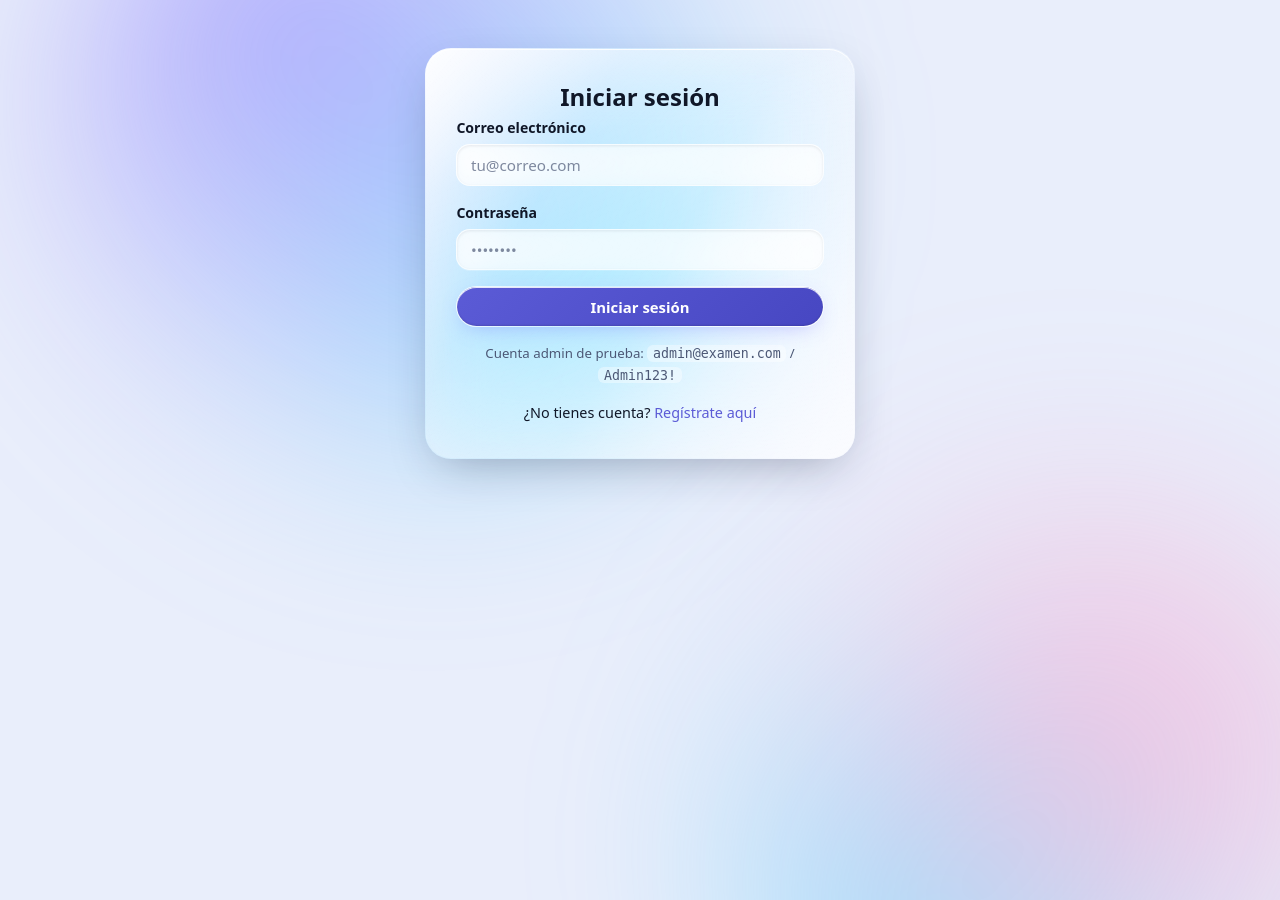
Scenario: LoginForm (integración) › muestra el error visible del servidor cuando las credenciales son inválidas (401)
The image size is (1280, 900).
Type "ana@example.com" into the field labelled "Correo electrónico" at {"x": 640, "y": 165}, box [456, 144, 824, 186]
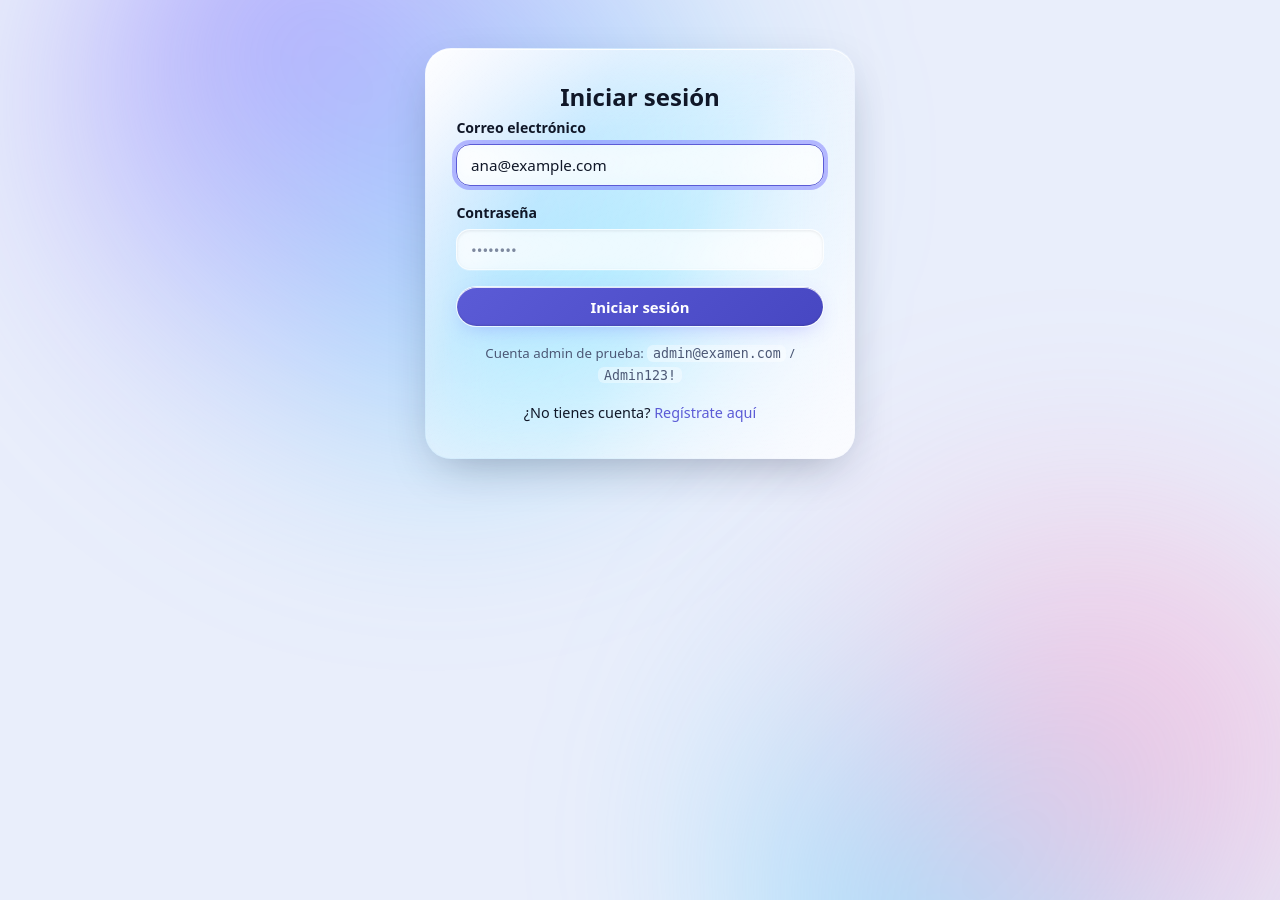
Type "wrong-password" into the password field labelled "Contraseña" at {"x": 640, "y": 250}, box [456, 229, 824, 270]
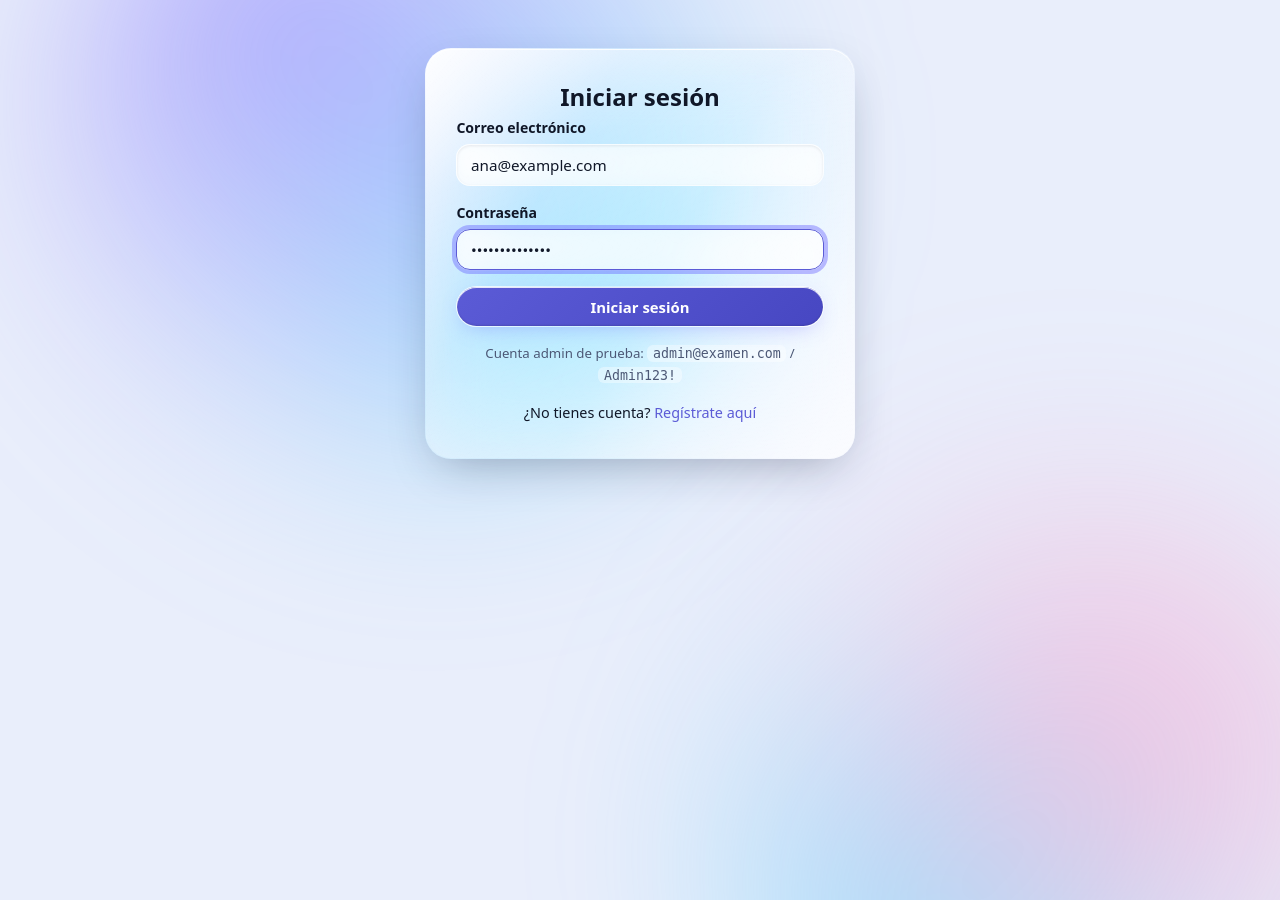
Click the button "Iniciar sesión" at {"x": 640, "y": 307}, box [456, 286, 824, 327]
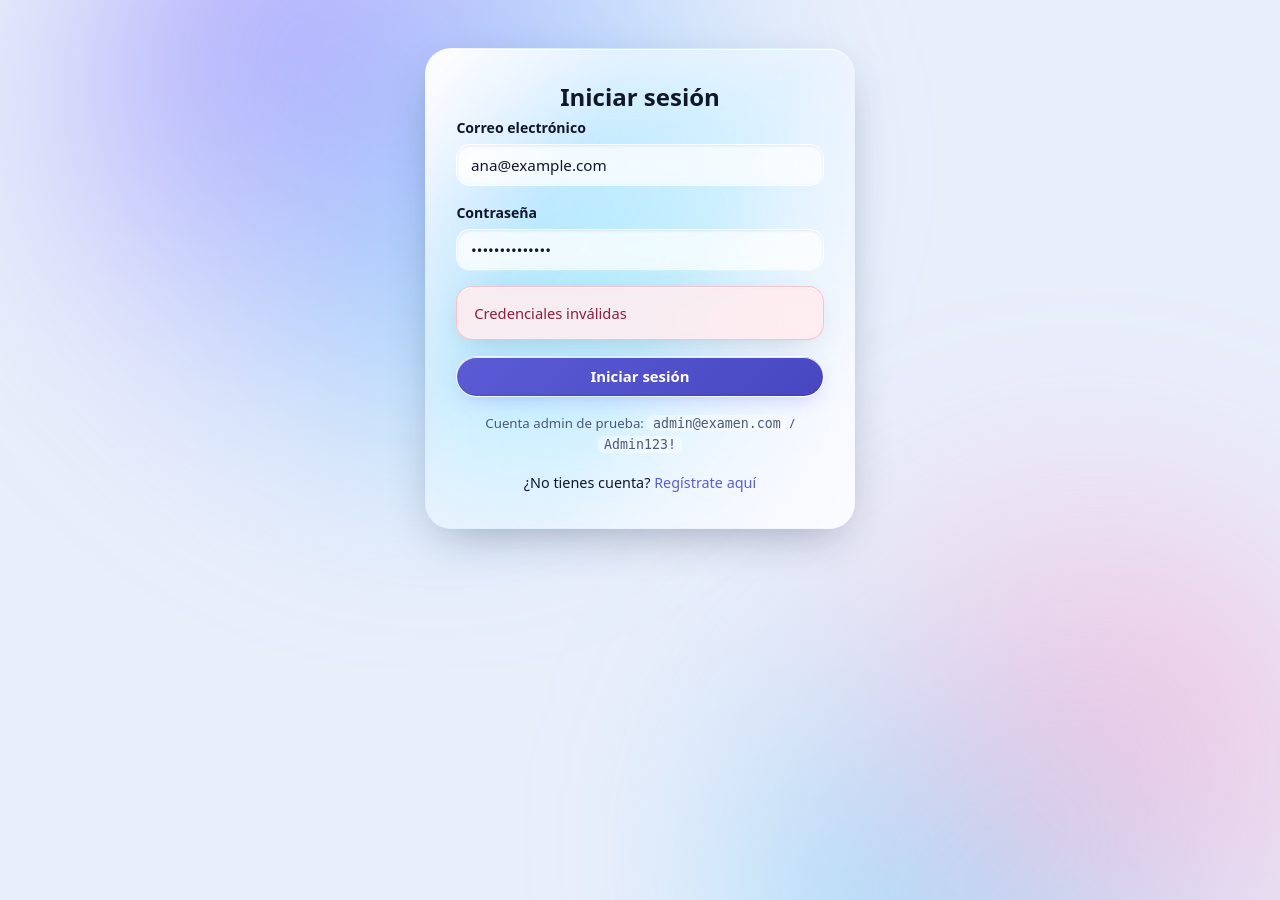
Result: the message reads "Credenciales inválidas" at [474, 303, 627, 323]
